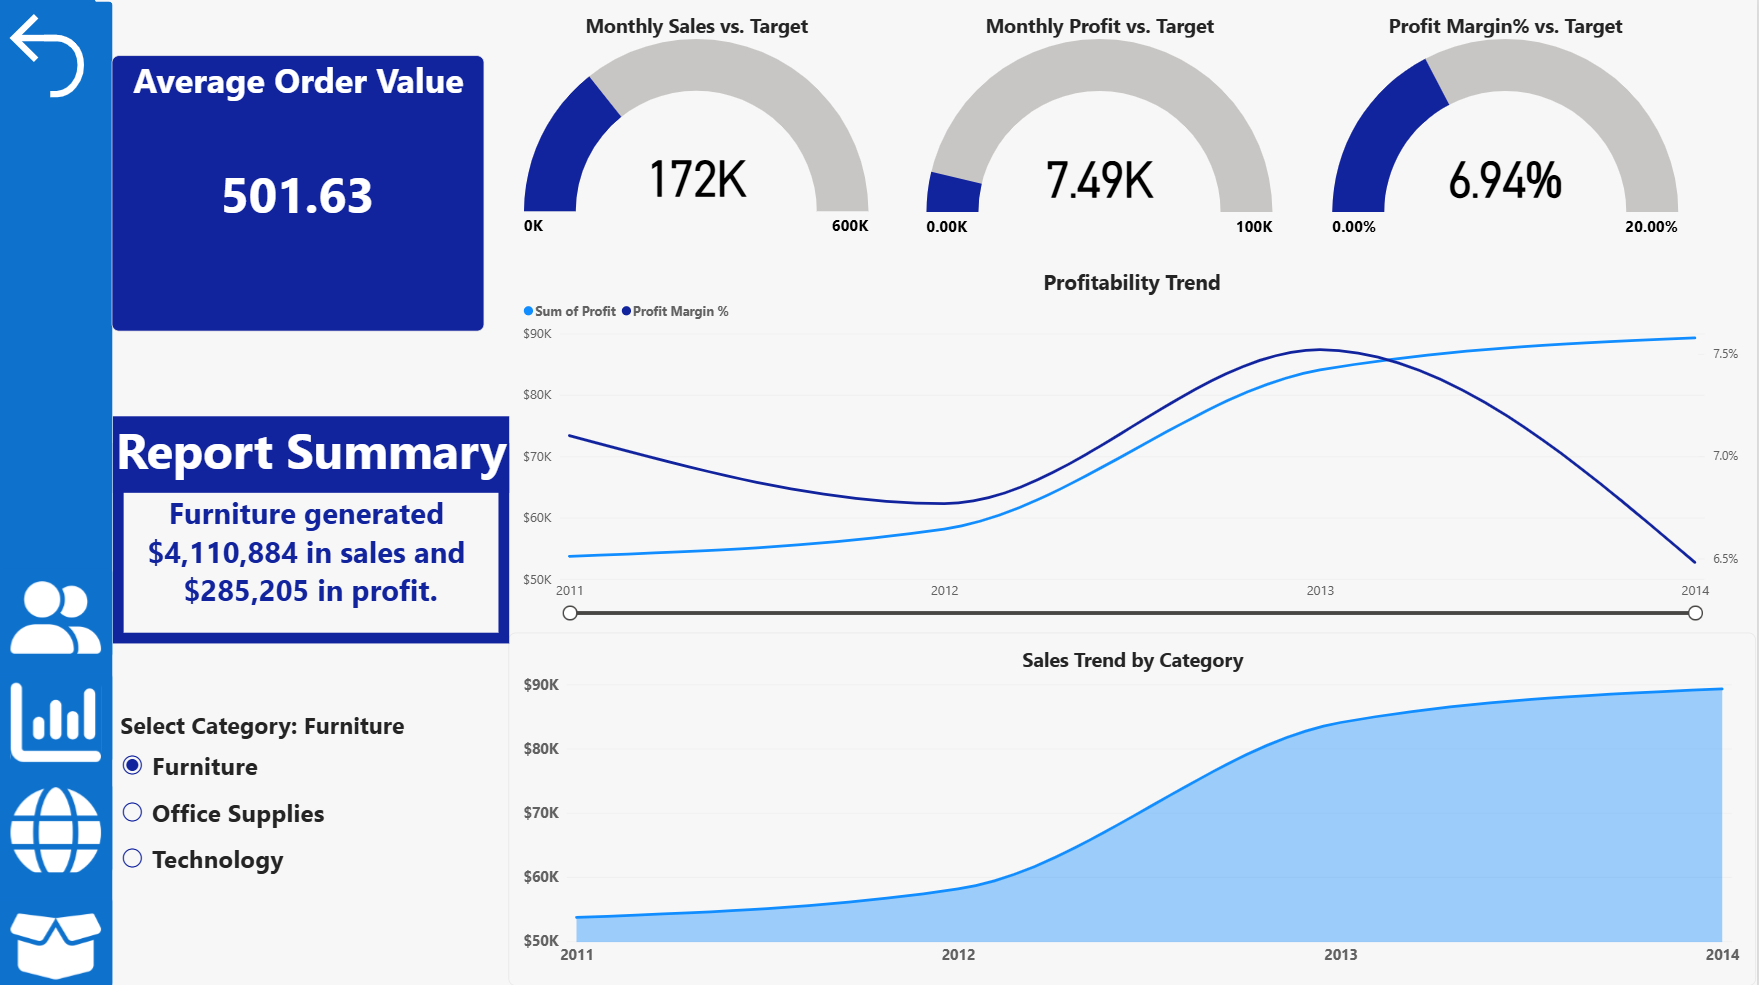

Layout of this report page (visuals, bound fields, positions):
{"tool":"powerbi","page":{"name":"Product","canvas":[1920,1080],"ordinal":1},"visuals":[{"type":"gauge","title":"Monthly Sales vs. Target ","fields":{"MaxValue":["superstore.Sales Target"],"Y":["Time-Based Measures.Monthly Sales"]},"box":[556.2,0,411,280],"z":0},{"type":"gauge","title":"Profit Margin% vs. Target","fields":{"MaxValue":["superstore.Profit Margin Target"],"Y":["superstore.Profit Margin %"]},"box":[1439.8,0,411.1,280.9],"z":1000},{"type":"gauge","title":"Monthly Profit vs. Target ","fields":{"MaxValue":["superstore.Profit Target"],"Y":["Time-Based Measures.Monthly Profit"]},"box":[997.1,0,411,280.9],"z":2000},{"type":"lineChart","title":"Profitability Trend","fields":{"Category":["superstore.Order Date.Variation.Date Hierarchy.Year","superstore.Order Date.Variation.Date Hierarchy.Quarter","superstore.Order Date.Variation.Date Hierarchy.Month","superstore.Order Date.Variation.Date Hierarchy.Day"],"Y":["Sum(superstore.Profit)"],"Y2":["superstore.Profit Margin %"]},"box":[557,279.7,1362.2,412.7],"z":3000},{"type":"slicer","fields":{"Values":["superstore.Category"]},"box":[124,775.8,444.3,221],"z":4000},{"type":"areaChart","title":"Sales Trend by Category","fields":{"Category":["superstore.Order Date.Variation.Date Hierarchy.Year","superstore.Order Date.Variation.Date Hierarchy.Quarter","superstore.Order Date.Variation.Date Hierarchy.Month","superstore.Order Date.Variation.Date Hierarchy.Day"],"Series":["superstore.Category"],"Y":["Sum(superstore.Profit)"]},"box":[557,692.4,1362.2,385.6],"z":5000},{"type":"card","title":"Re","fields":{"Values":["superstore.Category Summary"]},"box":[124,484.9,433,218.8],"z":6000},{"type":"textbox","box":[124,455.6,433,83.4],"z":7000},{"type":"actionButton","box":[0,2.3,124,1078],"z":8000},{"type":"actionButton","box":[0,981,124,97],"z":9000},{"type":"actionButton","box":[0,857.6,124,97],"z":10000},{"type":"actionButton","box":[0,736.7,124,97],"z":11000},{"type":"actionButton","box":[0,0,106,124],"z":12000},{"type":"actionButton","box":[0,622.5,124,97],"z":13000},{"type":"card","fields":{"Values":["superstore.Average Order Value"]},"box":[122.8,61.4,407.4,301.4],"z":13001},{"type":"textbox","box":[124.6,61.4,405.5,63.2],"z":13002}]}

Visuals, with their boxes on the page's 1920x1080 design canvas (x1, y1, x2, y2). These are canvas units, not pixel positions in the 1759x985 screenshot, which may show the page scaled, cropped or inside an application window:
"Monthly Sales vs. Target " gauge: region(556, 0, 967, 280)
"Profit Margin% vs. Target" gauge: region(1440, 0, 1851, 281)
"Monthly Profit vs. Target " gauge: region(997, 0, 1408, 281)
"Profitability Trend" lineChart: region(557, 280, 1919, 692)
slicer - superstore.Category: region(124, 776, 568, 997)
"Sales Trend by Category" areaChart: region(557, 692, 1919, 1078)
"Re" card: region(124, 485, 557, 704)
textbox: region(124, 456, 557, 539)
actionButton: region(0, 2, 124, 1080)
actionButton: region(0, 981, 124, 1078)
actionButton: region(0, 858, 124, 955)
actionButton: region(0, 737, 124, 834)
actionButton: region(0, 0, 106, 124)
actionButton: region(0, 622, 124, 720)
card - superstore.Average Order Value: region(123, 61, 530, 363)
textbox: region(125, 61, 530, 125)
